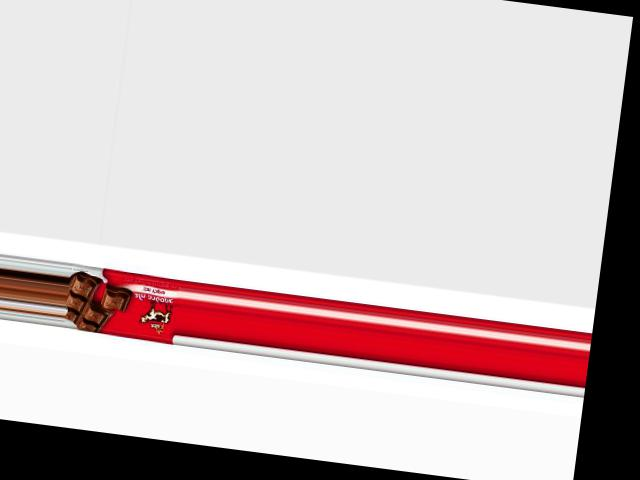chocolate: (64, 265, 182, 343)
